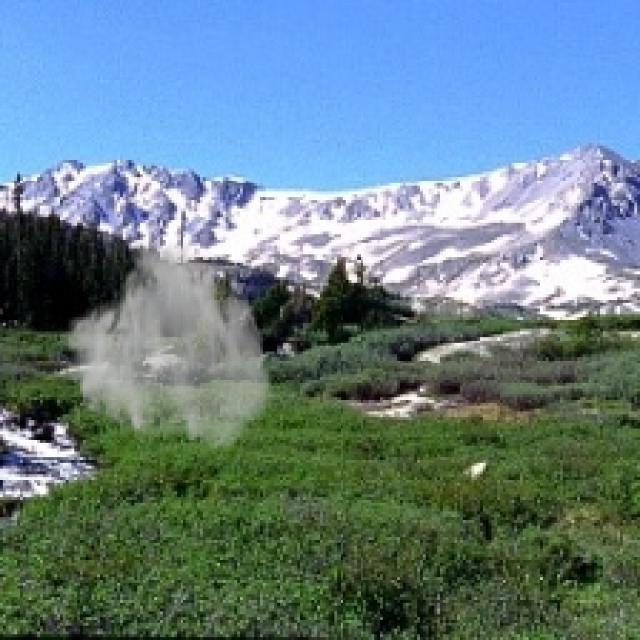smoke: (63, 232, 274, 454)
